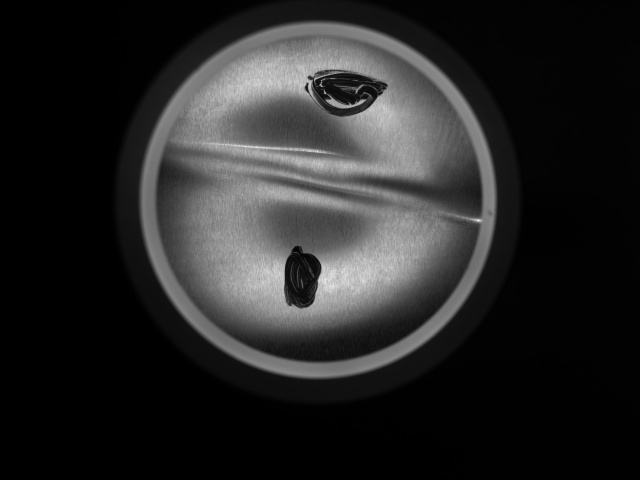zang_wu: (302, 68, 388, 117), (284, 240, 323, 310)
zhe_zhou: (190, 74, 445, 326)
